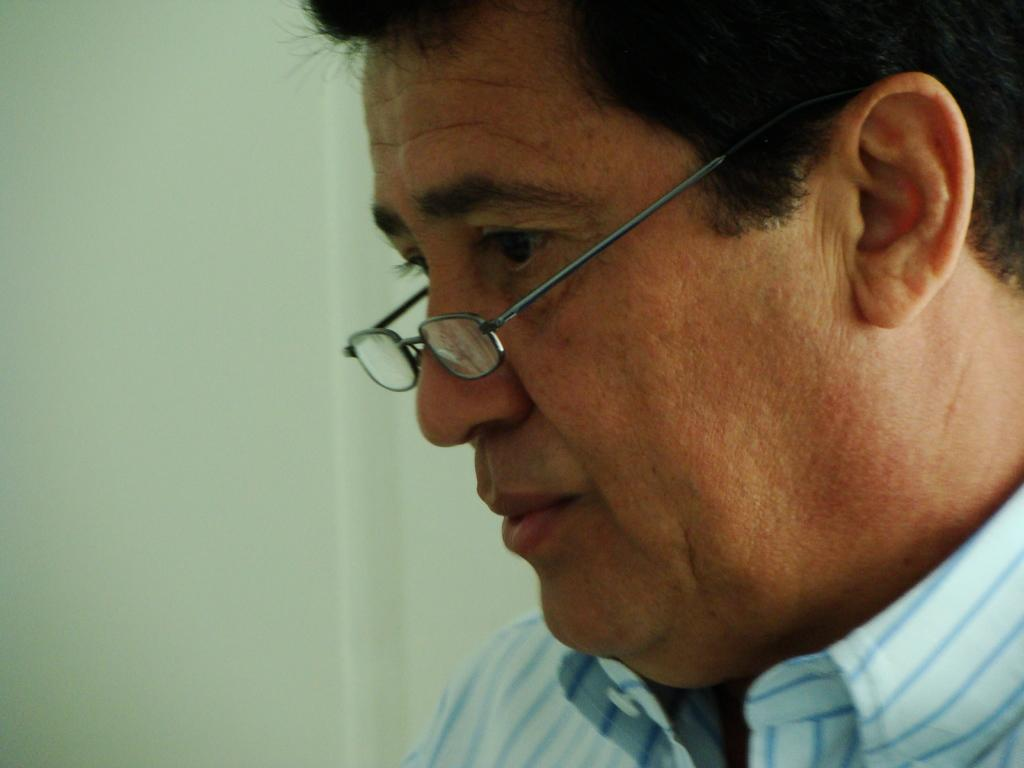Sem Máscara: (359, 55, 871, 650)
